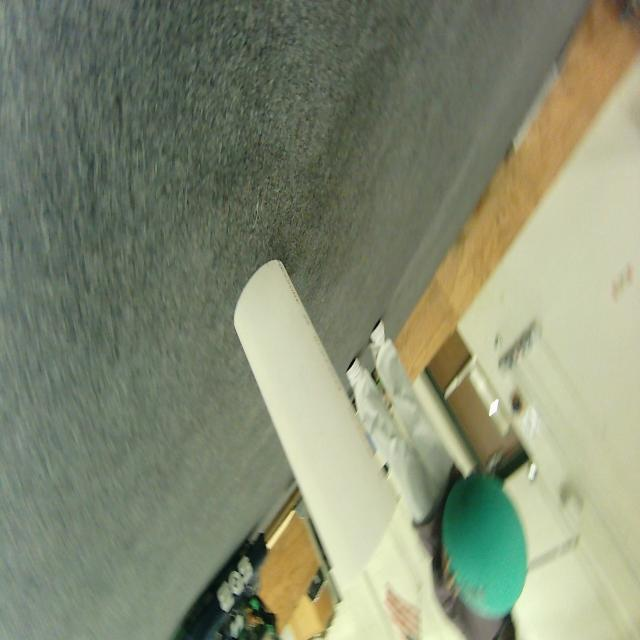algae: (441, 471, 528, 622)
coral: (234, 260, 396, 599)
